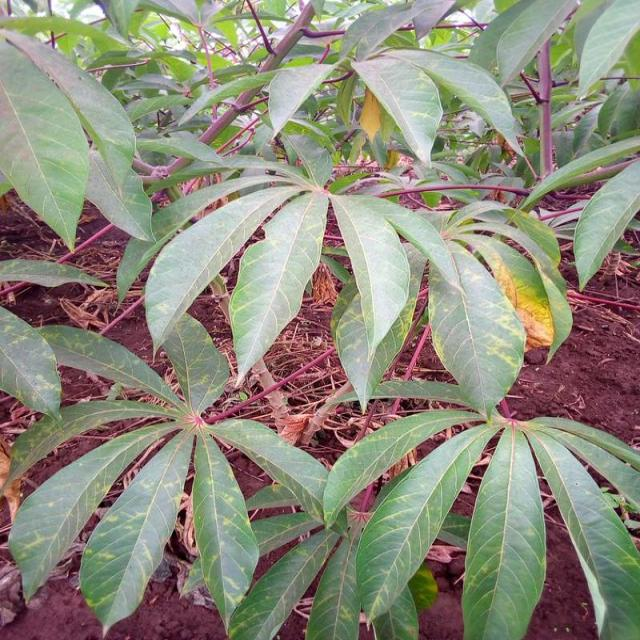cassava leaf: (0, 1, 638, 638), (228, 188, 328, 388), (426, 238, 526, 414)
